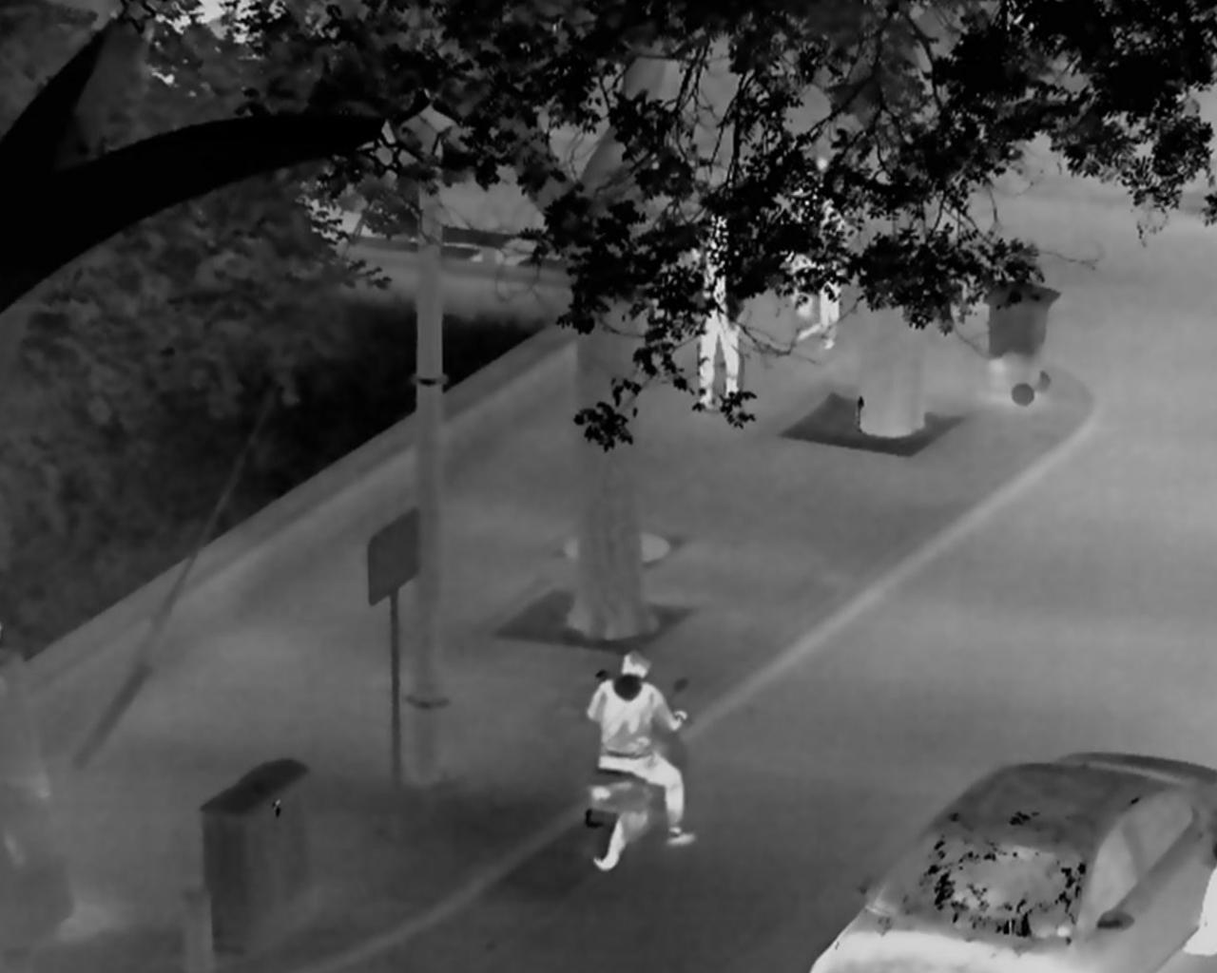person: (586, 648, 699, 849), (782, 162, 857, 349), (696, 203, 743, 410)
